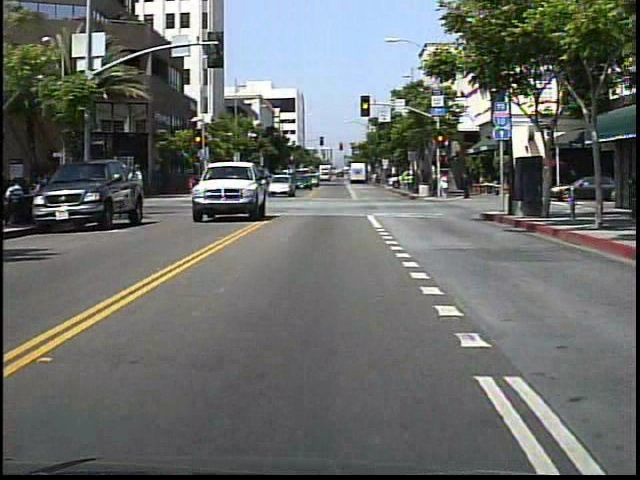person: (128, 163, 151, 191), (459, 171, 473, 203), (440, 174, 450, 199), (188, 173, 200, 192)
